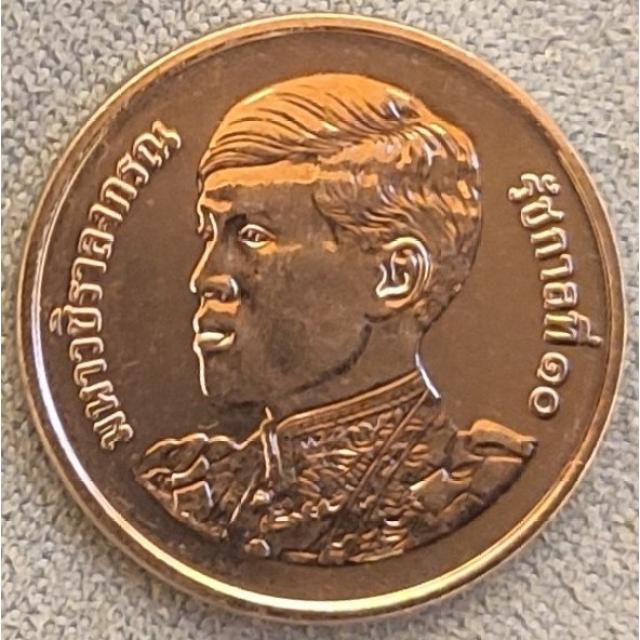1 Bath: (17, 6, 631, 637)
